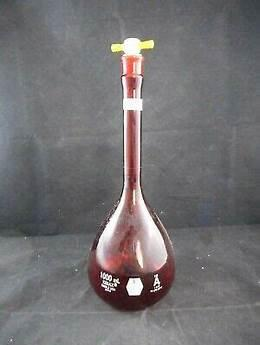Volumetric flask: (90, 19, 182, 310)
